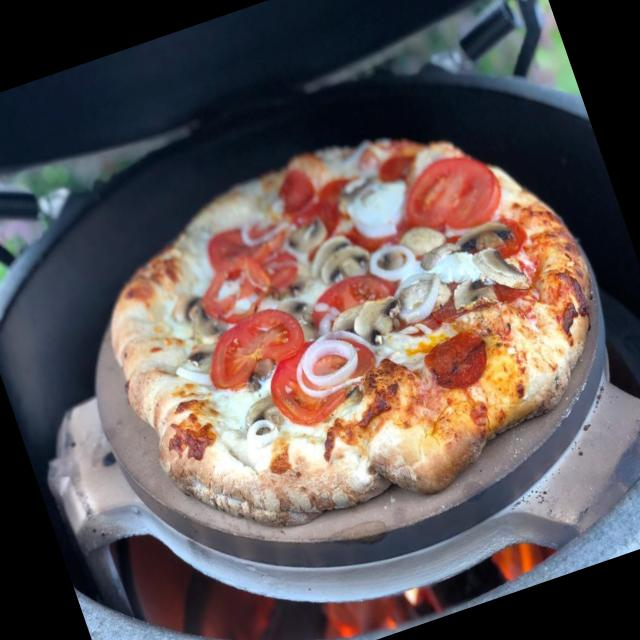mushrooms: (328, 287, 406, 352), (470, 232, 538, 306), (304, 225, 376, 292), (396, 212, 463, 276), (237, 389, 295, 444), (456, 212, 514, 260), (446, 266, 496, 314), (397, 277, 423, 298)
pepperoni: (422, 321, 496, 394)
pizza: (105, 138, 598, 531)
